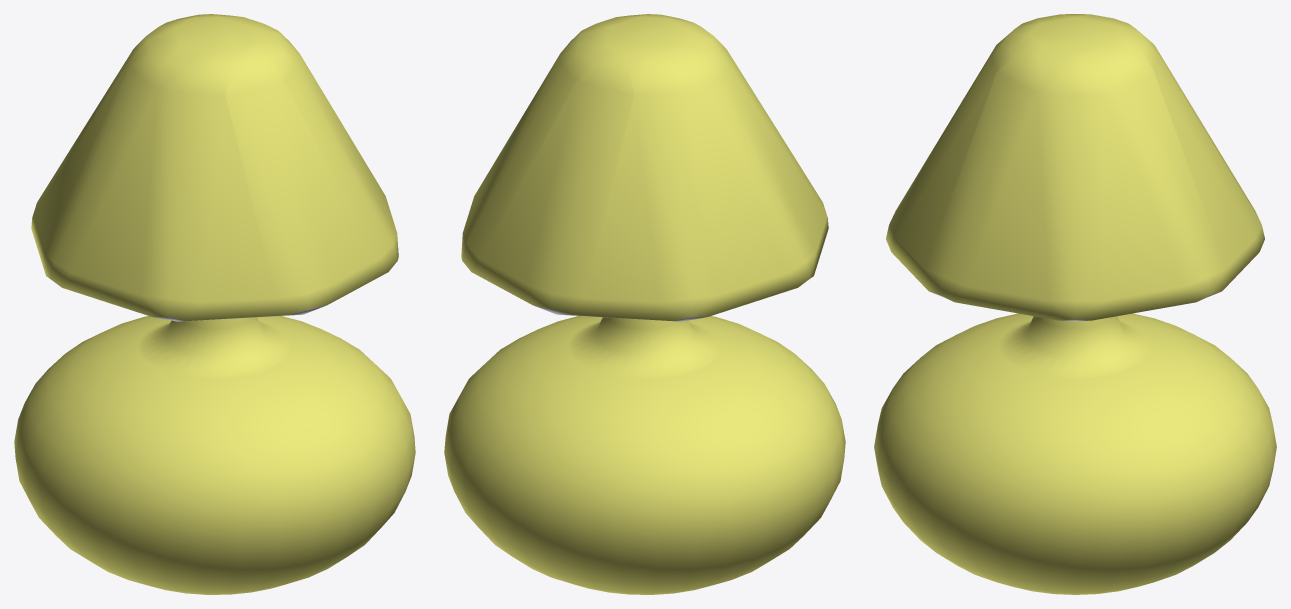
The model's file is lamp.fbx.
3 views of the same model, side by side, from view 1: azimuth 30°, elevation 25°; view 2: azimuth 150°, elevation 25°; view 3: azimuth 270°, elevation 25° (orthographic).
Parts seen in each view (by area): view 1: Lamp; view 2: Lamp; view 3: Lamp.
Boxes of the visible parts, left/top/right/bottom form: Lamp: left=14, top=14, right=415, bottom=594; Lamp: left=444, top=14, right=845, bottom=594; Lamp: left=874, top=14, right=1276, bottom=594.
Bounding box in the file's own units: 18.39 × 26.92 × 18.39.
